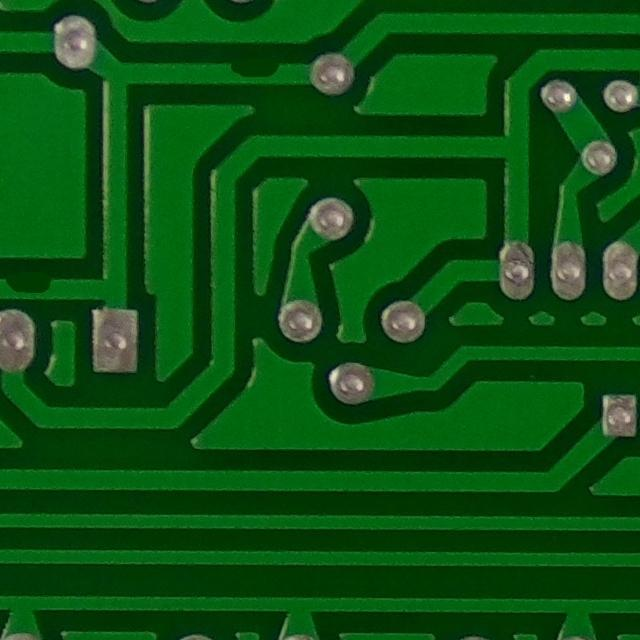mouse_bite: (218, 46, 295, 101), (0, 259, 64, 310)
